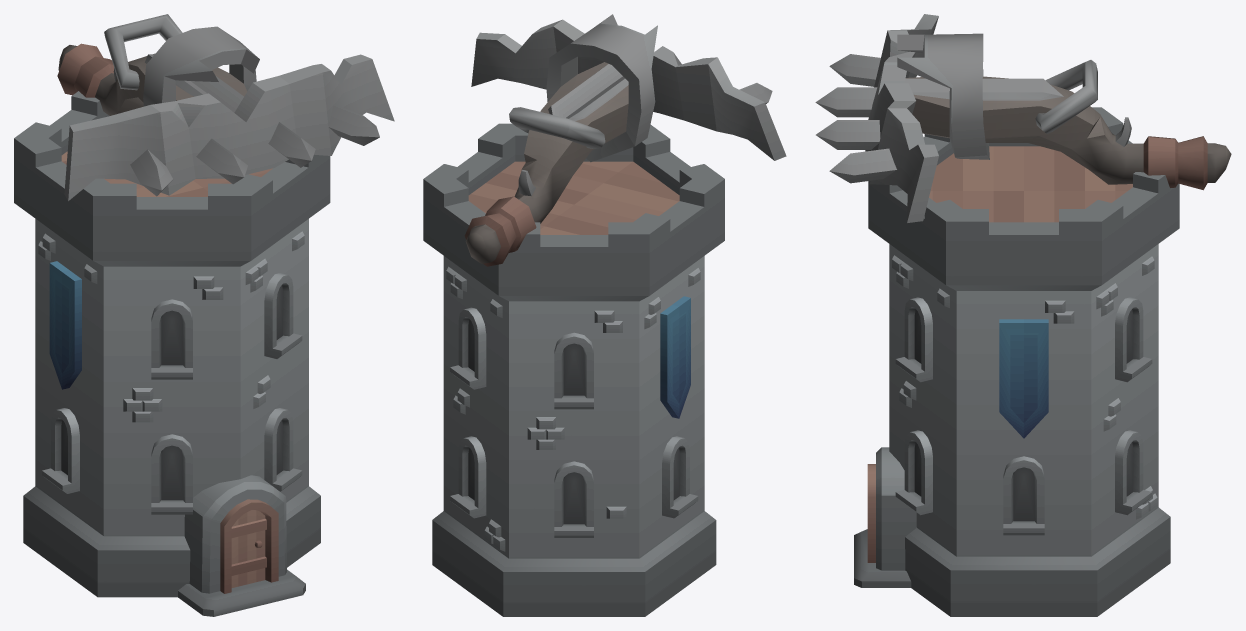
File: tower-ballista.glb
The picture shows the model from 3 angles, left to right: view 1: azimuth 30°, elevation 25°; view 2: azimuth 150°, elevation 25°; view 3: azimuth 270°, elevation 25°; orthographic projection. The views are drawn at different scales.
Visible parts, largest first — view 1: building_tower_B_blue, Skeleton_Crossbow; view 2: building_tower_B_blue, Skeleton_Crossbow; view 3: building_tower_B_blue, Skeleton_Crossbow.
Boxes of the visible parts, <box> form: building_tower_B_blue: <box>14,91,330,616</box>; Skeleton_Crossbow: <box>57,14,394,201</box>; building_tower_B_blue: <box>423,123,724,616</box>; Skeleton_Crossbow: <box>464,14,786,266</box>; building_tower_B_blue: <box>854,107,1179,616</box>; Skeleton_Crossbow: <box>815,14,1231,222</box>.
Bounding box in the file's own units: 1.27 × 1.96 × 1.42.
2 materials, 2 textured.
